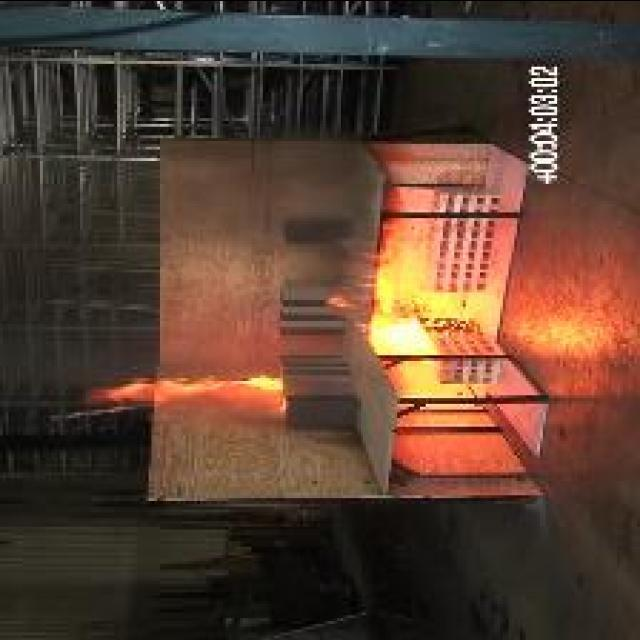Fire: (324, 236, 470, 350), (83, 374, 283, 406)
